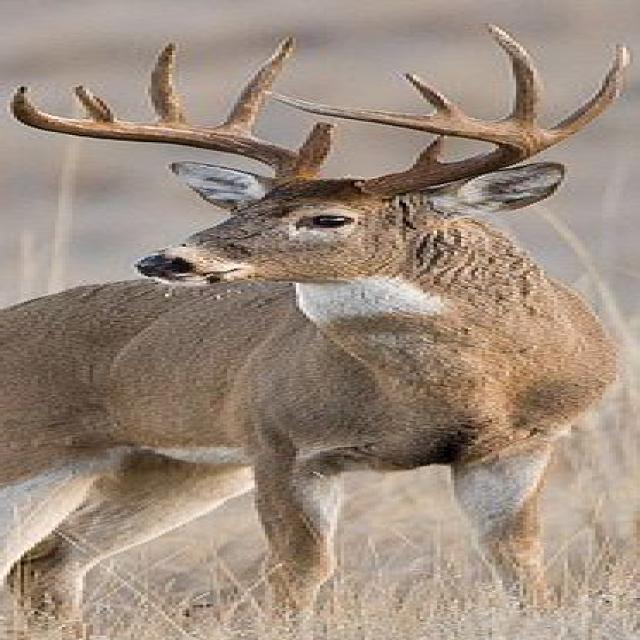L-F: (263, 91, 559, 198)
L-G1: (411, 136, 447, 169)
L-G2: (547, 45, 633, 142)
L-G3: (484, 24, 546, 127)
L-G4: (400, 72, 464, 115)
R-F: (10, 85, 324, 183)
R-G1: (297, 121, 336, 167)
R-G2: (220, 34, 299, 135)
R-G3: (147, 41, 189, 124)
R-G4: (72, 85, 118, 121)
